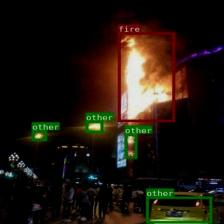fire: (118, 32, 174, 121)
